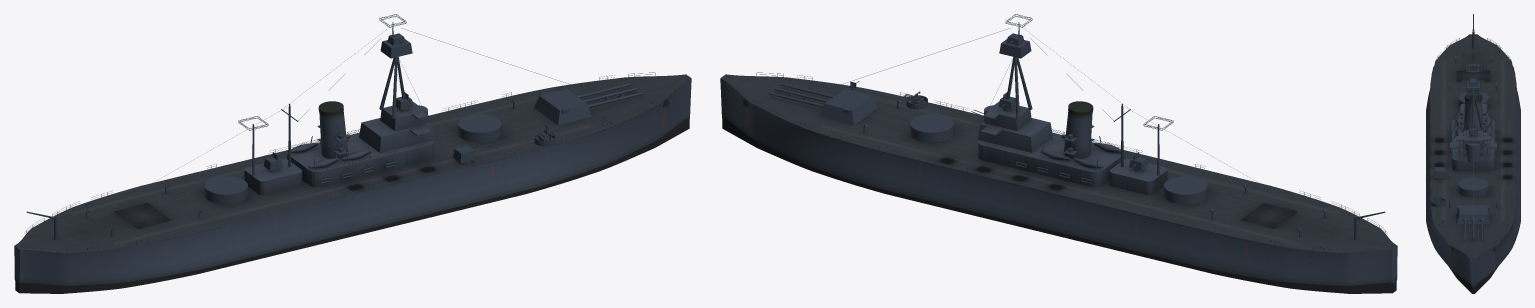
File: pennsylvania-bb.glb
The picture shows the model from 3 angles, left to right: view 1: azimuth 30°, elevation 25°; view 2: azimuth 150°, elevation 25°; view 3: azimuth 270°, elevation 25°; orthographic projection. The views are drawn at different scales.
Visible parts, largest first — view 1: Hull, Skirt, Kit_turret-14in-triple, Kit_turret-14in-triple_Guns; view 2: Hull, Skirt, Kit_turret-14in-triple, Kit_turret-14in-triple_Guns; view 3: Hull, Kit_turret-14in-triple, Skirt, Kit_mount-40mm-quad, Kit_turret-14in-triple_Guns, Kit_mount-5in38-twin.
Boxes of the visible parts, x1,y1,x2,y2 form: Hull: (14,14,691,285); Skirt: (15,119,689,293); Kit_turret-14in-triple: (534,89,591,125); Kit_turret-14in-triple_Guns: (577,83,643,107); Hull: (720,14,1397,285); Skirt: (722,118,1396,293); Kit_turret-14in-triple: (820,89,877,125); Kit_turret-14in-triple_Guns: (768,83,834,107); Hull: (1426,14,1520,287); Kit_turret-14in-triple: (1456,205,1490,224); Skirt: (1449,267,1497,293); Kit_mount-40mm-quad: (1430,197,1445,207); Kit_turret-14in-triple_Guns: (1464,220,1482,240); Kit_mount-5in38-twin: (1434,167,1444,179).
Bounding box in the file's own units: 185 × 47.61 × 32.42.
Materials: 4 (1 with a texture image).
